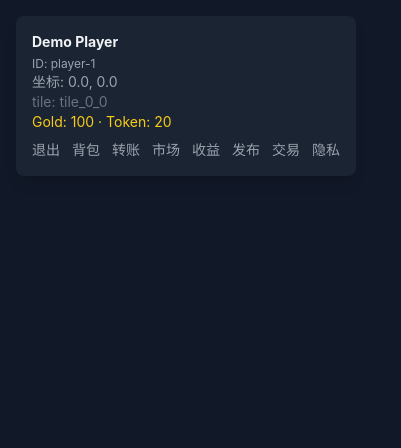
Test case: PlayerHUD inventory › saves an NPC draft
Click the button "发布" at (246, 150), box top-left (232, 140), bottom-right (260, 160)
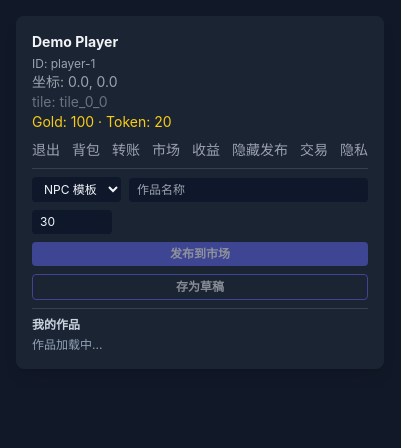
Type "New Draft" into the field with placeholder "作品名称" at (248, 190), box top-left (129, 178), bottom-right (368, 202)
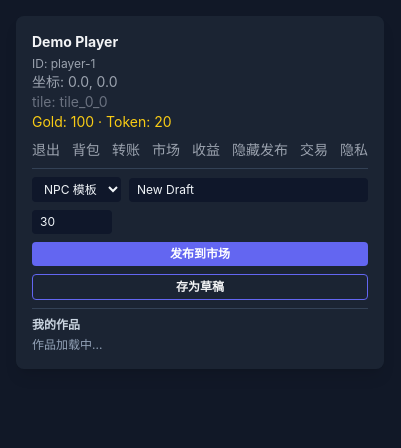
Click the button "存为草稿" at (200, 287), box top-left (32, 274), bottom-right (368, 300)
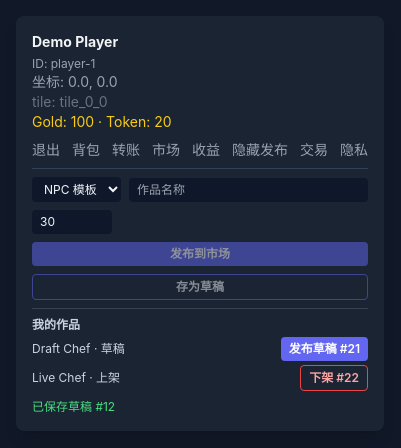
Check: the text "已保存草稿 #12" is shown, box top-left (32, 399), bottom-right (115, 414)
